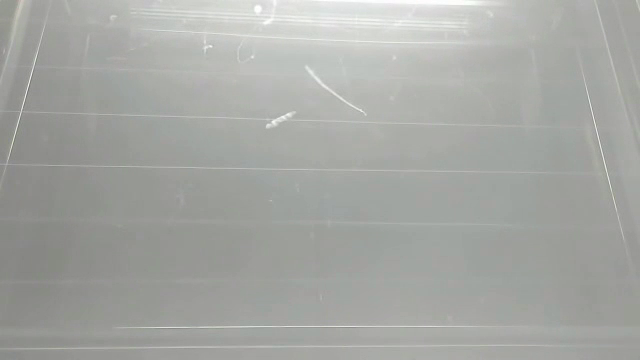alpha: (302, 56, 372, 119), (263, 109, 301, 133), (251, 1, 264, 16)
